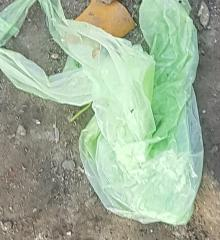plastic: (0, 0, 204, 226)
